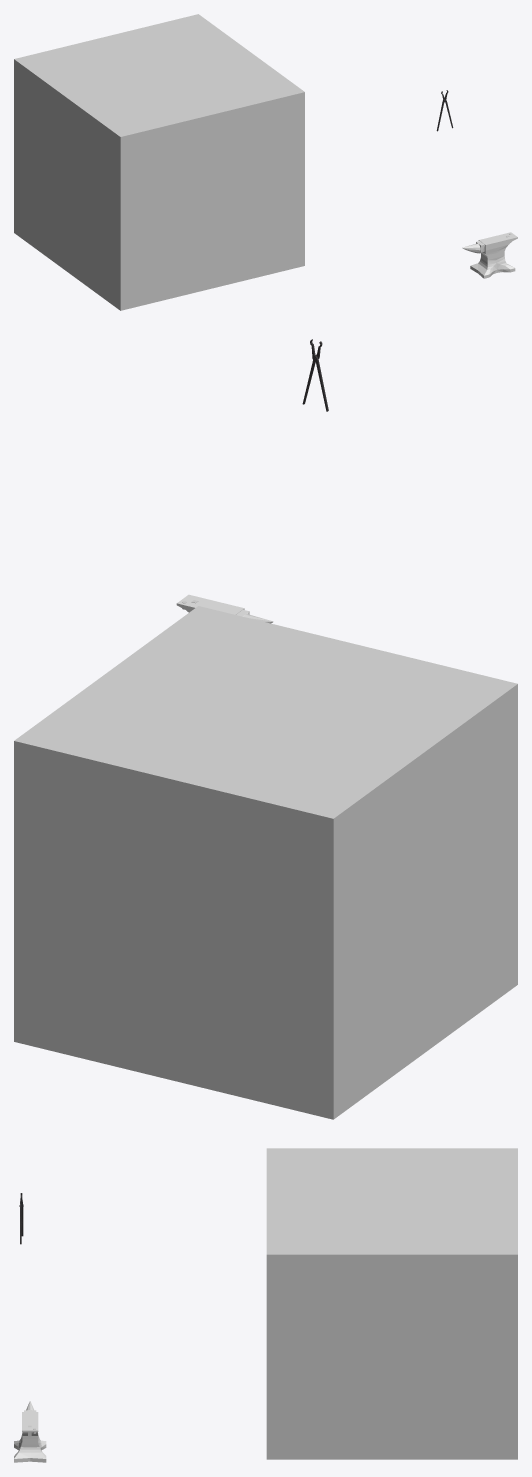
The model's file is rivettongopen.dae.
The picture shows the model from 3 angles, top to bottom: view 1: azimuth 30°, elevation 25°; view 2: azimuth 150°, elevation 25°; view 3: azimuth 270°, elevation 25°; orthographic projection. The views are drawn at different scales.
Parts seen in each view (by area): view 1: Cube_004, Cube_002; view 2: Cube_004; view 3: Cube_004, Cube_002.
Boxes of the visible parts, x1=… form: Cube_004: x1=14, y1=14, x2=304, y2=310; Cube_002: x1=462, y1=232, x2=517, y2=278; Cube_004: x1=14, y1=606, x2=517, y2=1119; Cube_004: x1=266, y1=1148, x2=517, y2=1459; Cube_002: x1=14, y1=1401, x2=46, y2=1462.
Bounding box in the file's own units: 3.18 × 4.01 × 2.51.
1 material, 1 textured.
